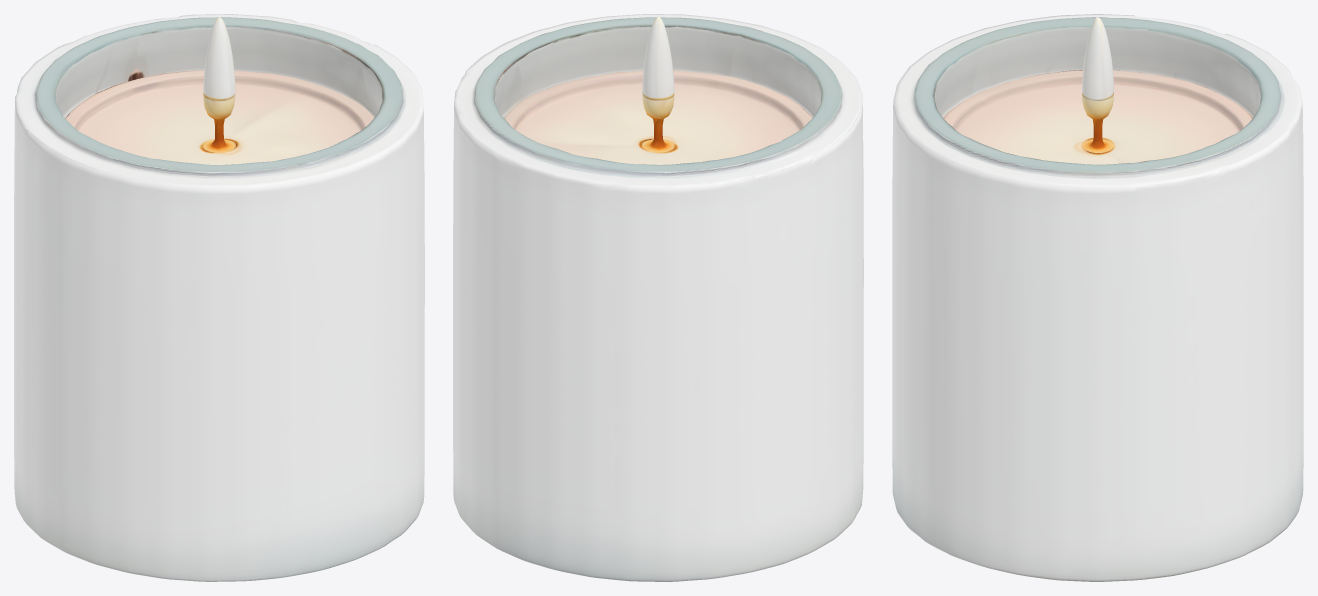
File: base_basic_shaded.glb
The picture shows the model from 3 angles, left to right: view 1: azimuth 30°, elevation 25°; view 2: azimuth 150°, elevation 25°; view 3: azimuth 270°, elevation 25°; orthographic projection.
Visible parts, largest first — view 1: model; view 2: model; view 3: model.
Part boxes in pixels (left/top/right/bottom): model: left=14, top=14, right=424, bottom=581; model: left=453, top=14, right=863, bottom=581; model: left=892, top=14, right=1303, bottom=581.
Bounding box in the file's own units: 1.47 × 1.89 × 1.48.
1 material, 1 textured.
